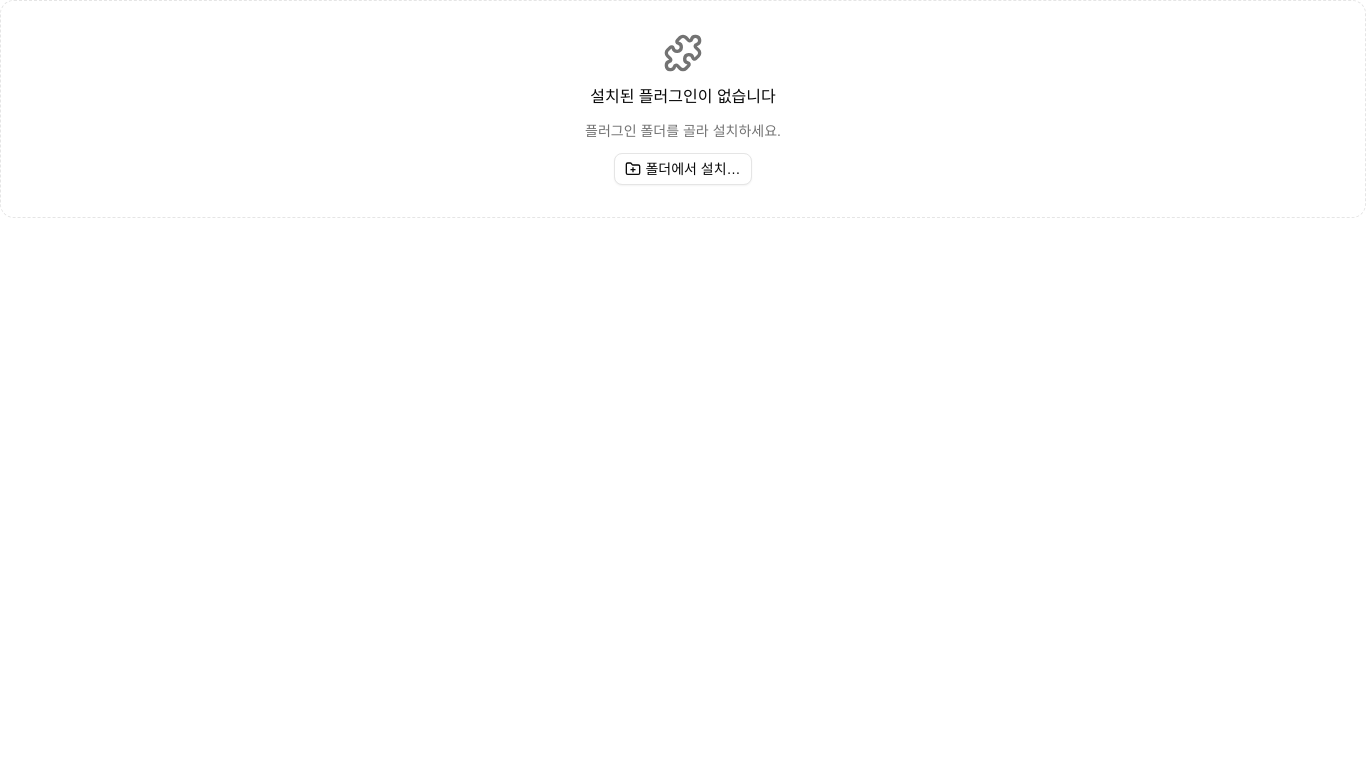
Test: settings > plugins › T-ui-plugin-07 [Boundary] a plugin with no requested permissions says so
Click the button "폴더에서 설치…" at (683, 169), box [614,153,752,185]
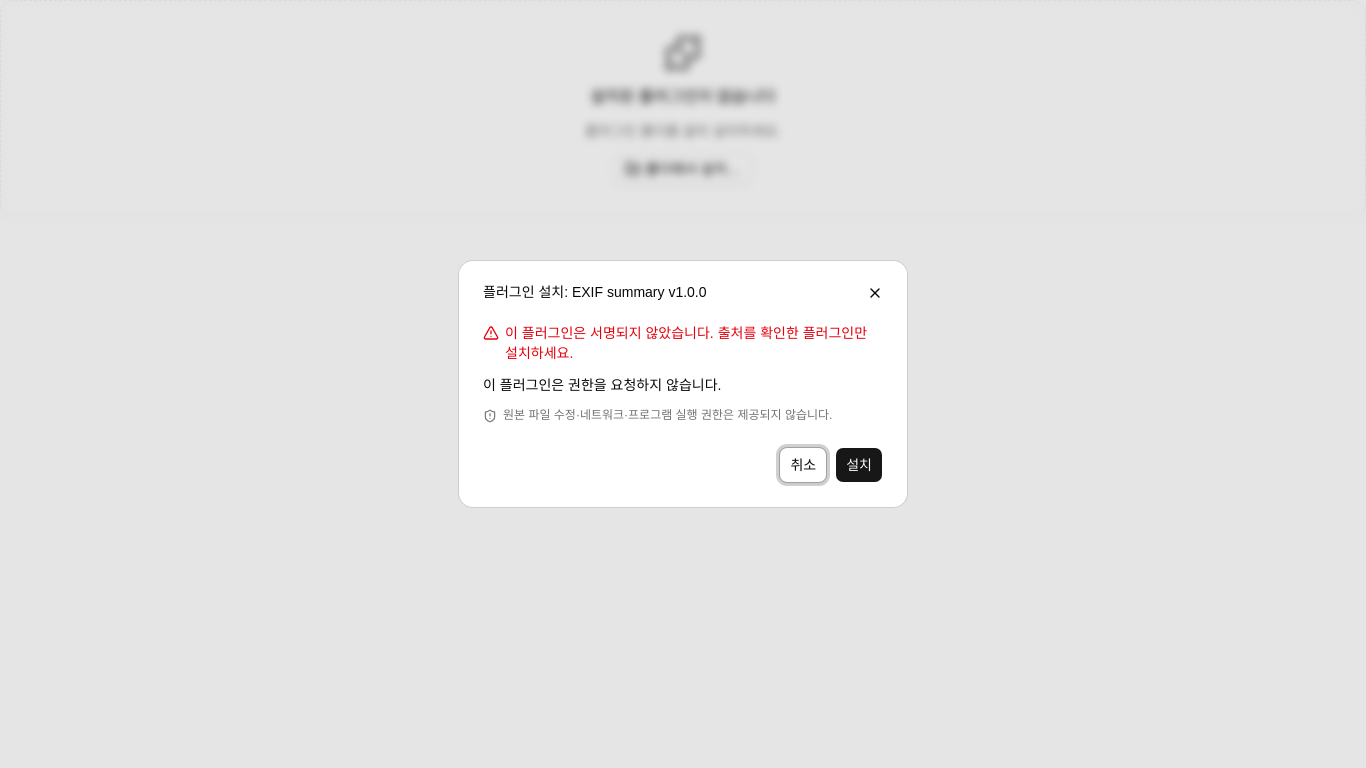
Result: the text "이 플러그인은 권한을 요청하지 않습니다." is shown at [483,377,721,393]
Result: the button "설치" is enabled at [835,447,883,483]
